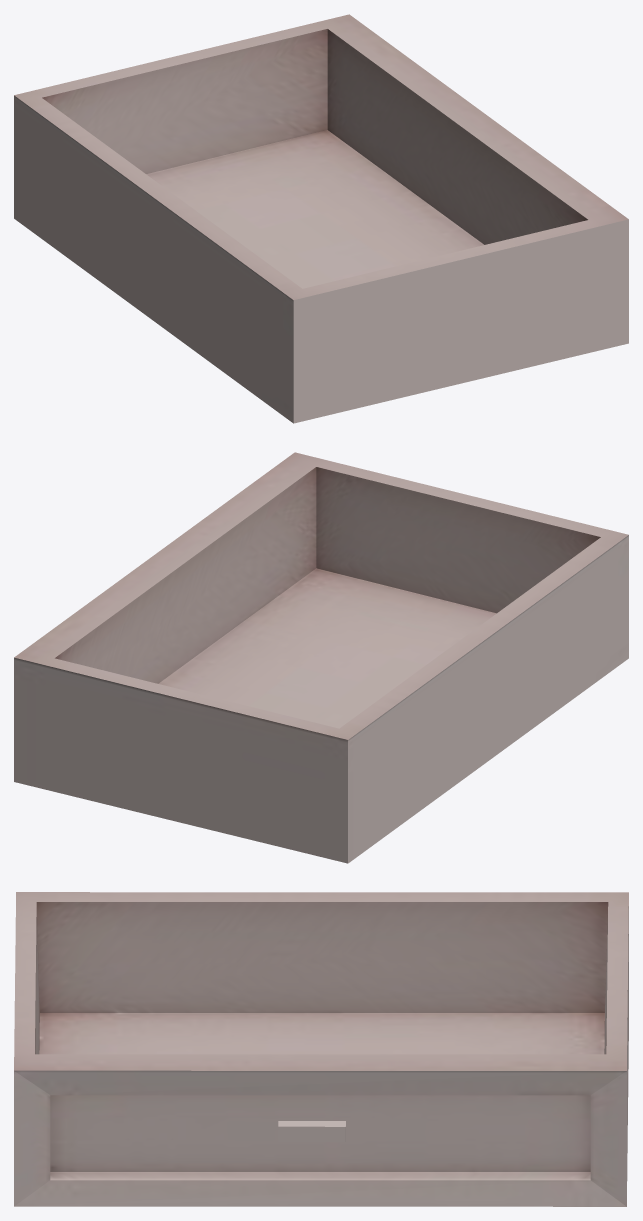
Rendered from drawer3.glb.
3 views of the same model, one above another, from view 1: azimuth 30°, elevation 25°; view 2: azimuth 150°, elevation 25°; view 3: azimuth 270°, elevation 25° (orthographic). The views are drawn at different scales.
Visible parts, largest first — view 1: frl_apartment_lower_shelf_01_part_07.001; view 2: frl_apartment_lower_shelf_01_part_07.001; view 3: frl_apartment_lower_shelf_01_part_07.001.
Boxes of the visible parts, x1,y1,x2,y2 form: frl_apartment_lower_shelf_01_part_07.001: (14, 14, 628, 423); frl_apartment_lower_shelf_01_part_07.001: (14, 452, 628, 863); frl_apartment_lower_shelf_01_part_07.001: (14, 892, 628, 1206).
Bounding box in the file's own units: 0.6112 × 0.2166 × 0.8883.
1 material, 1 textured.
